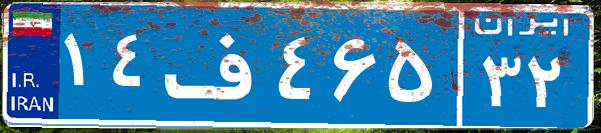1: (57, 26, 110, 107)
2: (525, 38, 570, 115)
3: (475, 38, 525, 113)
4: (273, 28, 330, 110), (110, 28, 158, 105)
5: (385, 28, 445, 110)
6: (330, 28, 385, 110)
ف: (158, 15, 273, 115)
